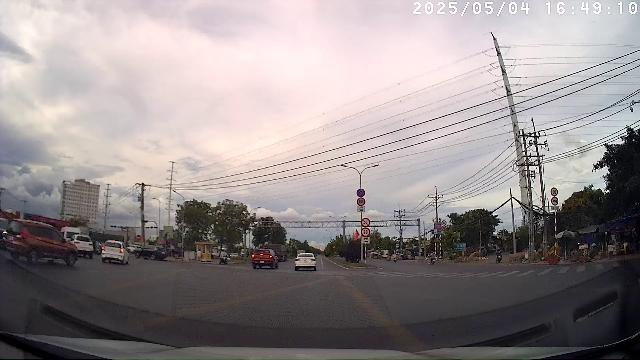127-toc-do-toi-da-60: (362, 228, 371, 236)
127-toc-do-toi-da-80: (356, 198, 366, 206)
130-cam-dung-va-do-xe: (356, 189, 366, 197)
